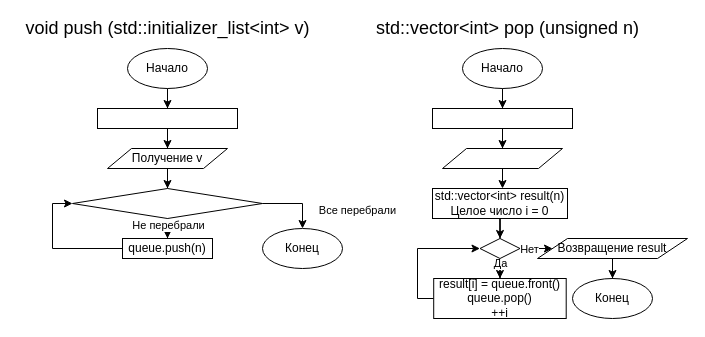
Some shapes in this 705 by 337 pixel diagram are drawn without their labels. The shapes that lost their labels are listed below. From the top down, each one's centre as x and y in pixels, then its label:
At (167,118): "std::initializer_list<int> v".
At (502,118): "Целое число n".
At (502,158): "Получение n".
At (167,203): "Перебираем каждое n из м".
At (499,248): "i < n".
